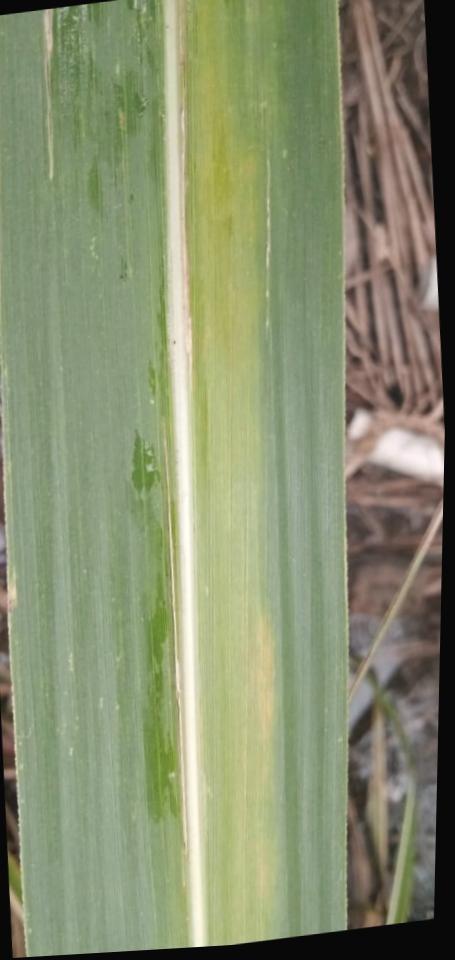Yellow: (186, 0, 280, 947)
